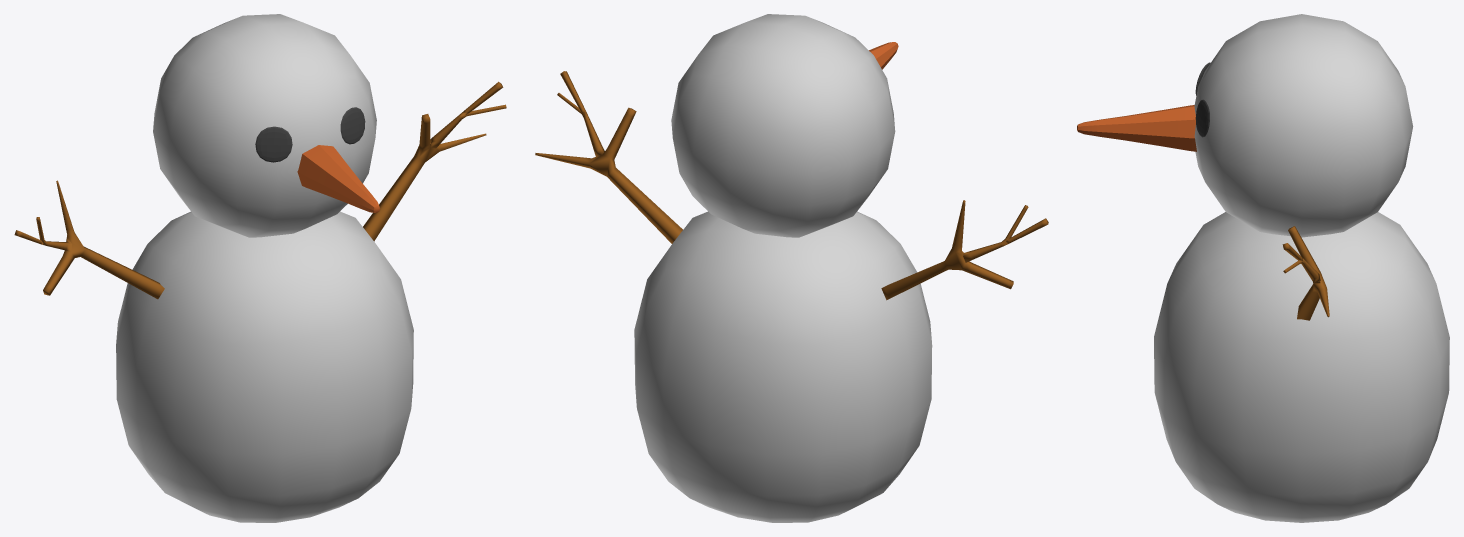
The model's file is MuñecoNieve.fbx.
The picture shows the model from 3 angles, left to right: view 1: azimuth 30°, elevation 25°; view 2: azimuth 150°, elevation 25°; view 3: azimuth 270°, elevation 25°; orthographic projection.
Parts seen in each view (by area): view 1: Cube, Cube.001, Cube.006, Cube.002, Cube.005, Cube.004, Cube.003; view 2: Cube, Cube.001, Cube.006, Cube.005; view 3: Cube, Cube.001, Cube.002, Cube.006, Cube.003.
Boxes of the visible parts, x1=… form: Cube: x1=116, y1=211, x2=413, y2=522; Cube.001: x1=153, y1=14, x2=376, y2=237; Cube.006: x1=363, y1=81, x2=506, y2=241; Cube.002: x1=297, y1=145, x2=380, y2=212; Cube.005: x1=14, y1=180, x2=164, y2=299; Cube.004: x1=255, y1=126, x2=292, y2=162; Cube.003: x1=340, y1=107, x2=365, y2=144; Cube: x1=634, y1=211, x2=932, y2=522; Cube.001: x1=671, y1=14, x2=895, y2=237; Cube.006: x1=535, y1=71, x2=682, y2=243; Cube.005: x1=881, y1=200, x2=1048, y2=300; Cube: x1=1154, y1=212, x2=1449, y2=522; Cube.001: x1=1194, y1=14, x2=1413, y2=237; Cube.002: x1=1077, y1=105, x2=1196, y2=151; Cube.006: x1=1282, y1=226, x2=1329, y2=320; Cube.003: x1=1195, y1=99, x2=1209, y2=137.
Size of the model in its own units: 629 by 569 by 413.
